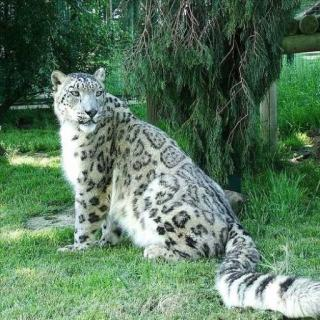Leopard: (31, 53, 296, 309)
